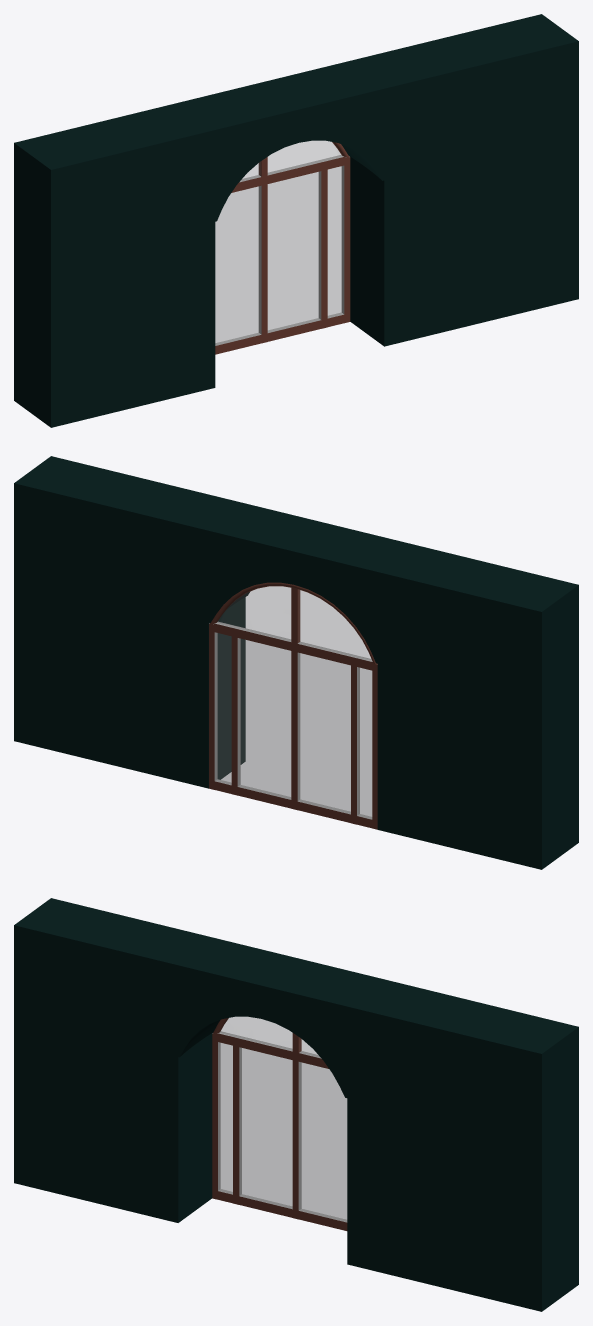
The model's file is Wall_Window.fbx.
3 views of the same model, one above another, from view 1: azimuth 30°, elevation 25°; view 2: azimuth 150°, elevation 25°; view 3: azimuth 330°, elevation 25° (orthographic).
Visible parts, largest first — view 1: pCube77; view 2: pCube77; view 3: pCube77.
Part boxes in pixels (x1,y1,x2,y2): pCube77: (14, 14, 578, 427); pCube77: (14, 456, 578, 869); pCube77: (14, 898, 578, 1311).
Bounding box in the file's own units: 53.11 × 24.81 × 6.48.
